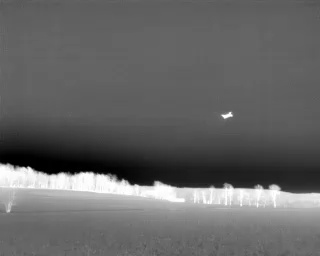DRONE: (218, 107, 238, 124)
